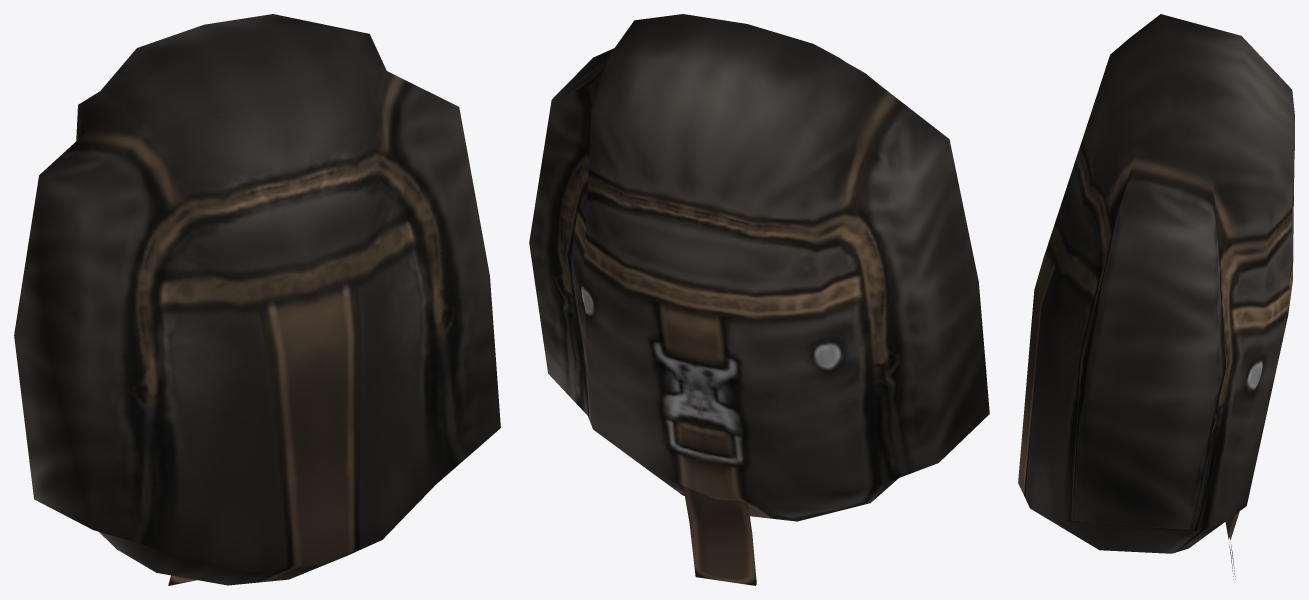
3 views of the same model, side by side, from view 1: azimuth 30°, elevation 25°; view 2: azimuth 150°, elevation 25°; view 3: azimuth 270°, elevation 25° (orthographic). The views are drawn at different scales.
Parts seen in each view (by area): view 1: 3_Z_30; view 2: 3_Z_30; view 3: 3_Z_30.
Boxes of the visible parts, x1=… form: 3_Z_30: x1=14, y1=14, x2=500, y2=585; 3_Z_30: x1=529, y1=14, x2=989, y2=585; 3_Z_30: x1=1018, y1=14, x2=1294, y2=579.
Bounding box in the file's own units: 40.25 × 24.68 × 52.29.
